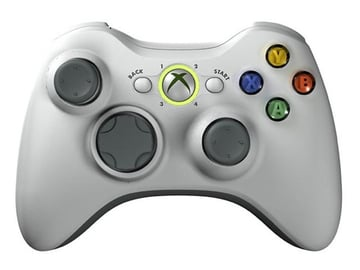controller: (15, 21, 343, 252)
